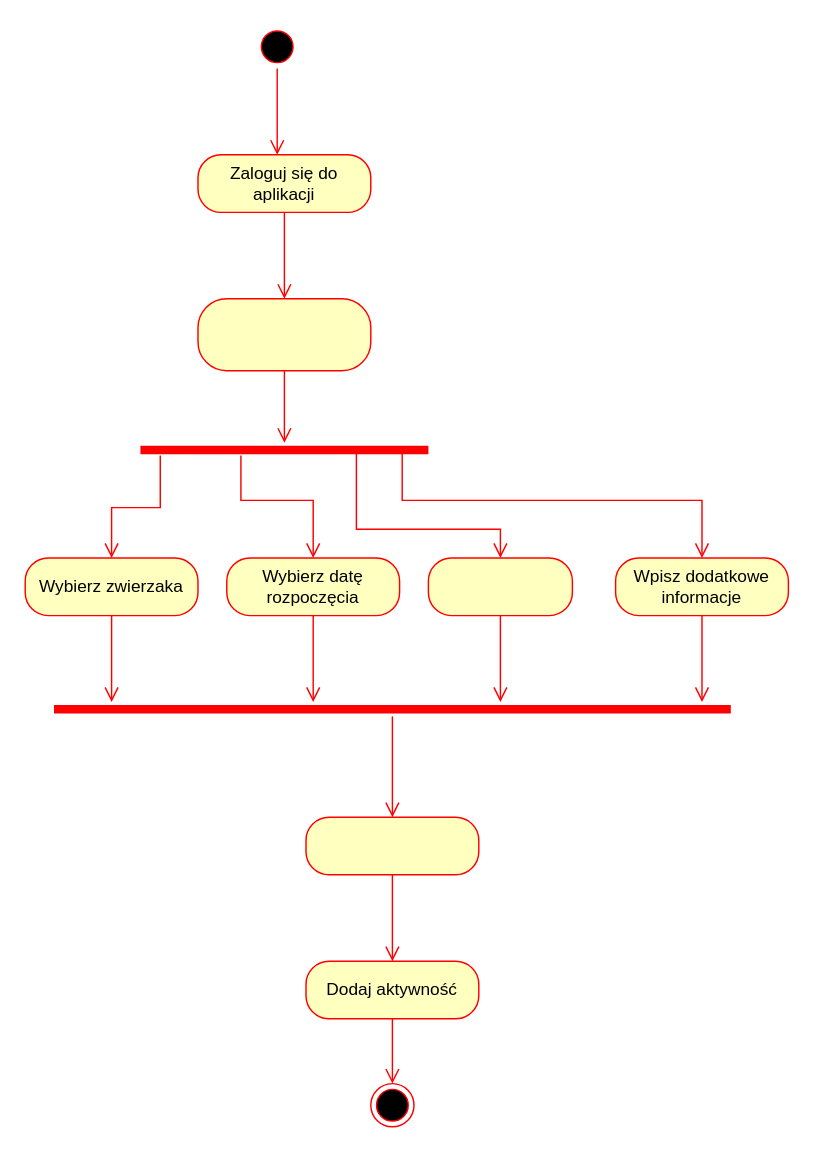
The diagram is 814 pixels wide and 1152 high, and some of its shapes have lost their labels. The box of each missing label's shape, as (x1, y1, x2, y2) in pixels:
Przejdź do "dodawania aktywności": (197, 297, 371, 371)
Weryfikuj dane: (305, 816, 479, 875)
Wpisz godzinę: (427, 557, 572, 616)
